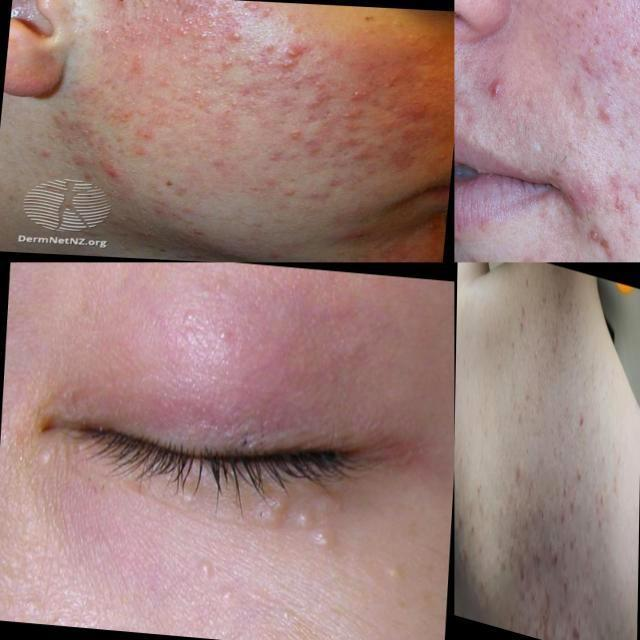Acne: (74, 20, 429, 214), (24, 446, 417, 610), (482, 29, 640, 244), (478, 421, 618, 633)
